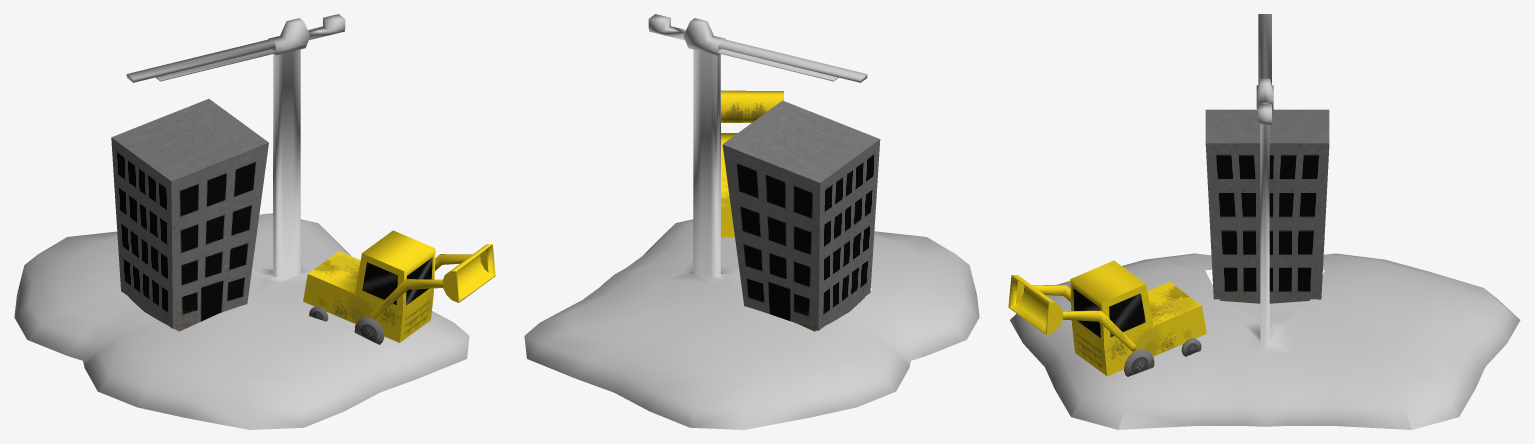
Rendered from constructionSite_7_3_13.FBX.
3 renders of one model, left to right at view 1: azimuth 30°, elevation 25°; view 2: azimuth 150°, elevation 25°; view 3: azimuth 270°, elevation 25°, orthographic. The views are drawn at different scales.
Parts seen in each view (by area): view 1: Box003, Box010, Box004; view 2: Box003, Box010, Box004; view 3: Box003, Box010, Box004.
Boxes of the visible parts, box(x1,y1,x2,y2) form: Box003: box(14, 14, 469, 429); Box010: box(111, 99, 268, 331); Box004: box(303, 230, 495, 344); Box003: box(524, 14, 979, 429); Box010: box(722, 100, 880, 331); Box004: box(721, 90, 783, 237); Box003: box(1010, 14, 1520, 429); Box010: box(1205, 109, 1329, 303); Box004: box(1008, 260, 1206, 376).
Bounding box in the file's own units: 34.25 × 28.02 × 43.88.
